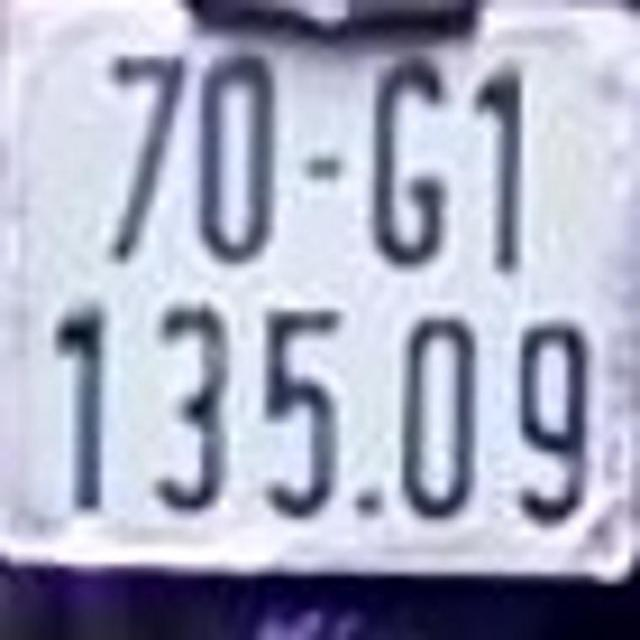0: (194, 42, 276, 265), (394, 306, 478, 520)
1: (45, 296, 126, 516), (466, 58, 534, 277)
3: (150, 288, 230, 514)
5: (258, 297, 344, 521)
7: (102, 38, 188, 260)
9: (508, 306, 592, 529)
G: (366, 51, 453, 268)
